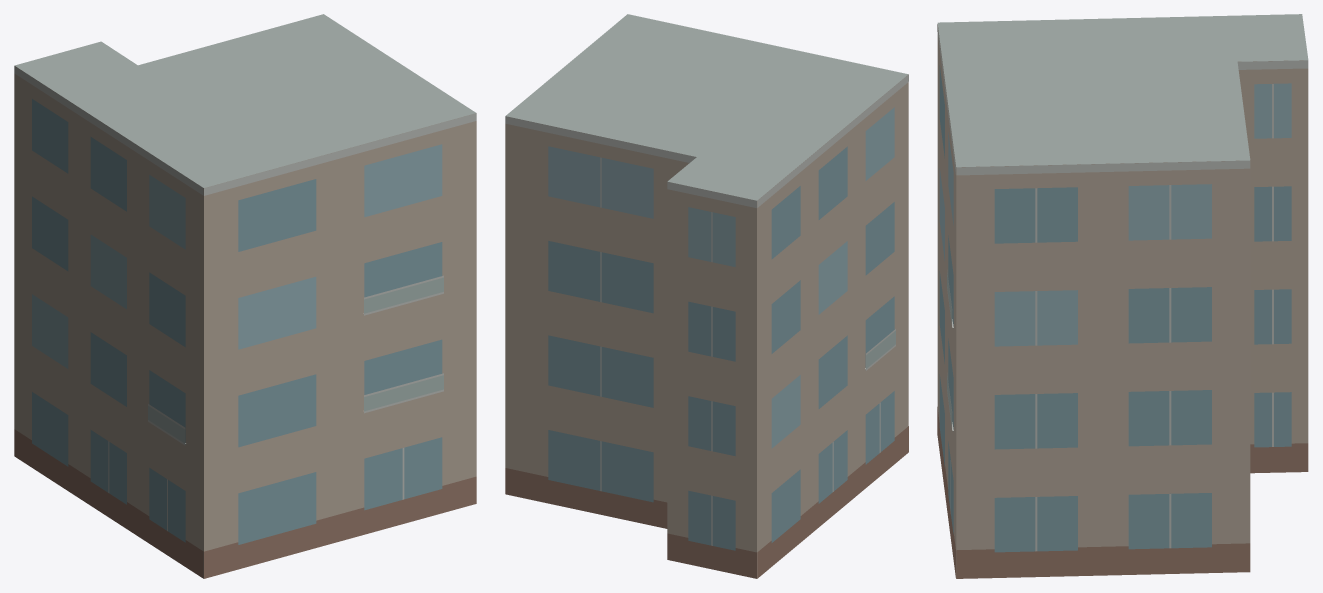
Rendered from residential-209d3698-9239-4956-8789-aa1c5af97096.glb.
3 renders of one model, left to right at view 1: azimuth 30°, elevation 25°; view 2: azimuth 150°, elevation 25°; view 3: azimuth 270°, elevation 25°, orthographic. The views are drawn at different scales.
Parts seen in each view (by area): view 1: residential-209d3698-9239-4956-8789-aa1c5af97096.tmp; view 2: residential-209d3698-9239-4956-8789-aa1c5af97096.tmp; view 3: residential-209d3698-9239-4956-8789-aa1c5af97096.tmp.
Part boxes in pixels (x1,y1,x2,y2): residential-209d3698-9239-4956-8789-aa1c5af97096.tmp: (14, 14, 476, 578); residential-209d3698-9239-4956-8789-aa1c5af97096.tmp: (505, 14, 908, 578); residential-209d3698-9239-4956-8789-aa1c5af97096.tmp: (937, 14, 1308, 578).
Bounding box in the file's own units: 9.75 × 12.2 × 9.98.
